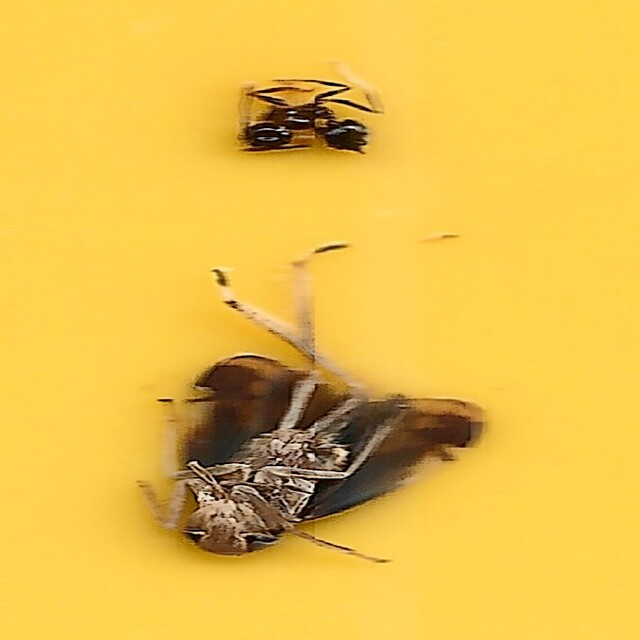Hemiptera: (133, 244, 507, 567)
Hymenoptera: (227, 73, 379, 167)
